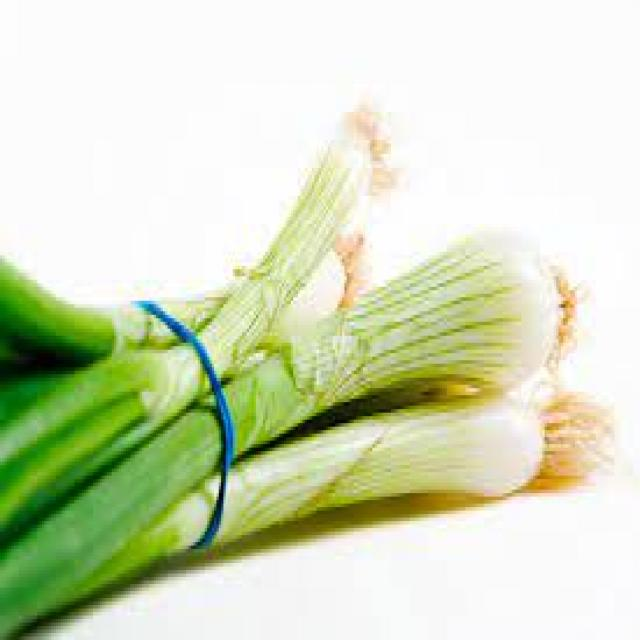spring_onion: (0, 98, 619, 636)
